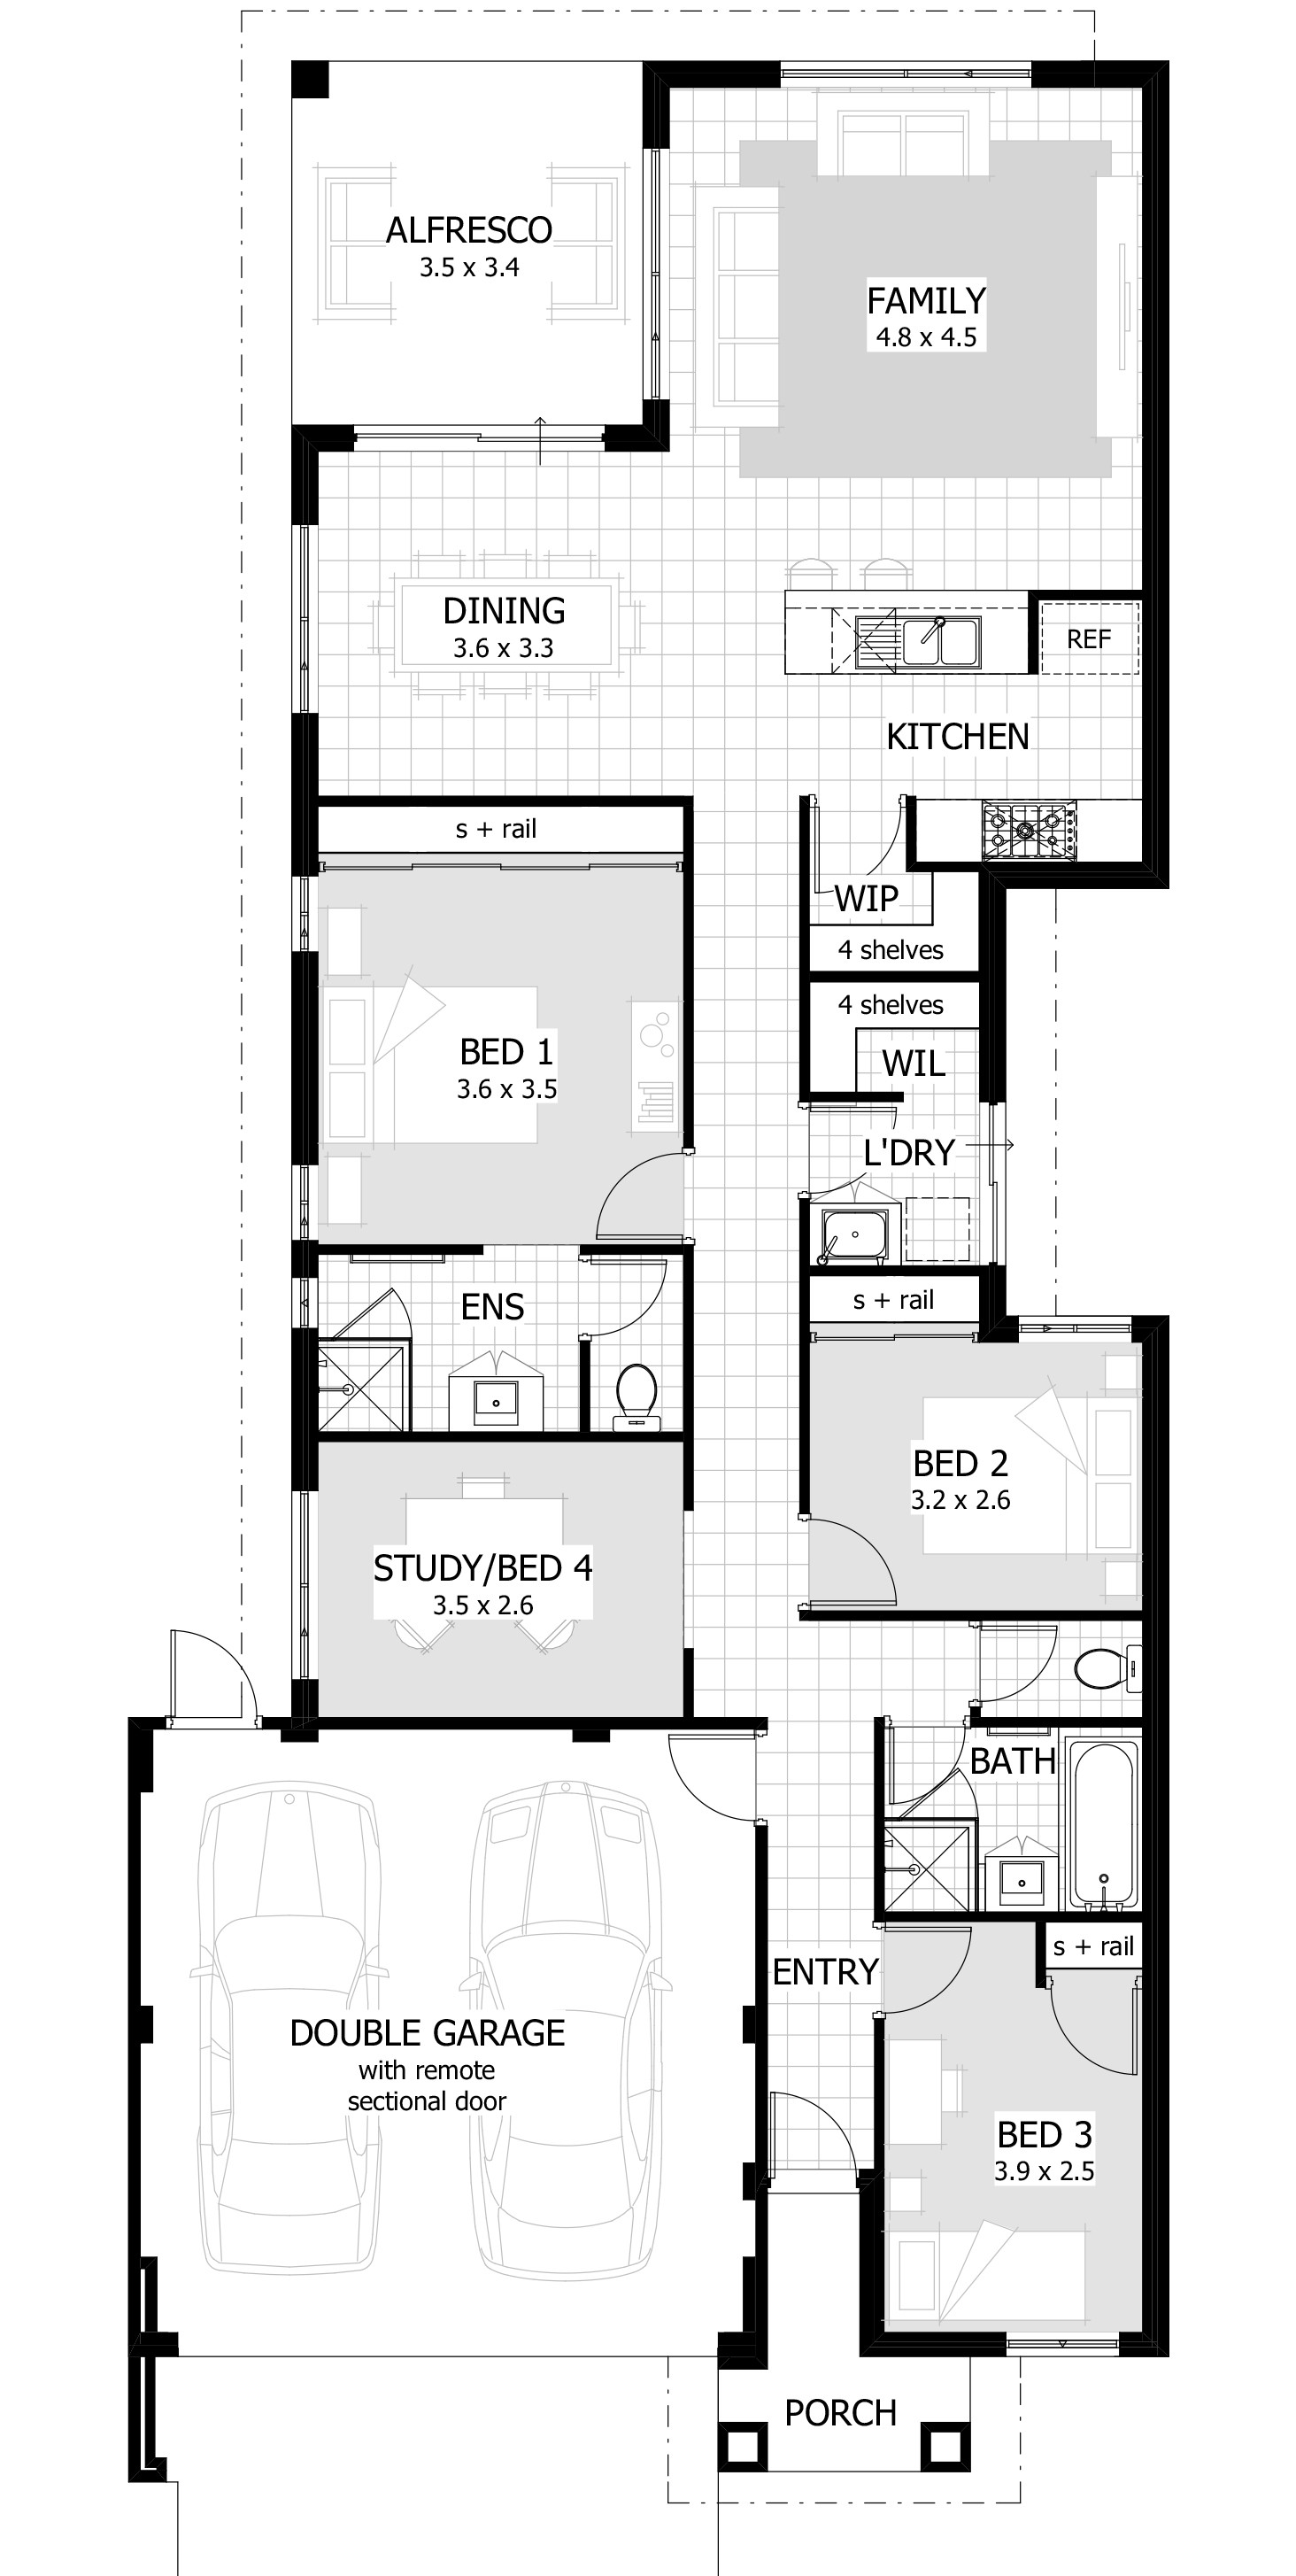window: (633, 144, 678, 405), (279, 1485, 327, 1685), (777, 56, 1036, 93), (350, 423, 610, 458), (284, 519, 327, 718), (975, 1098, 1012, 1268), (1015, 1313, 1134, 1348), (1003, 2330, 1121, 2363), (281, 870, 321, 956), (284, 1161, 322, 1245), (281, 1273, 326, 1333)
